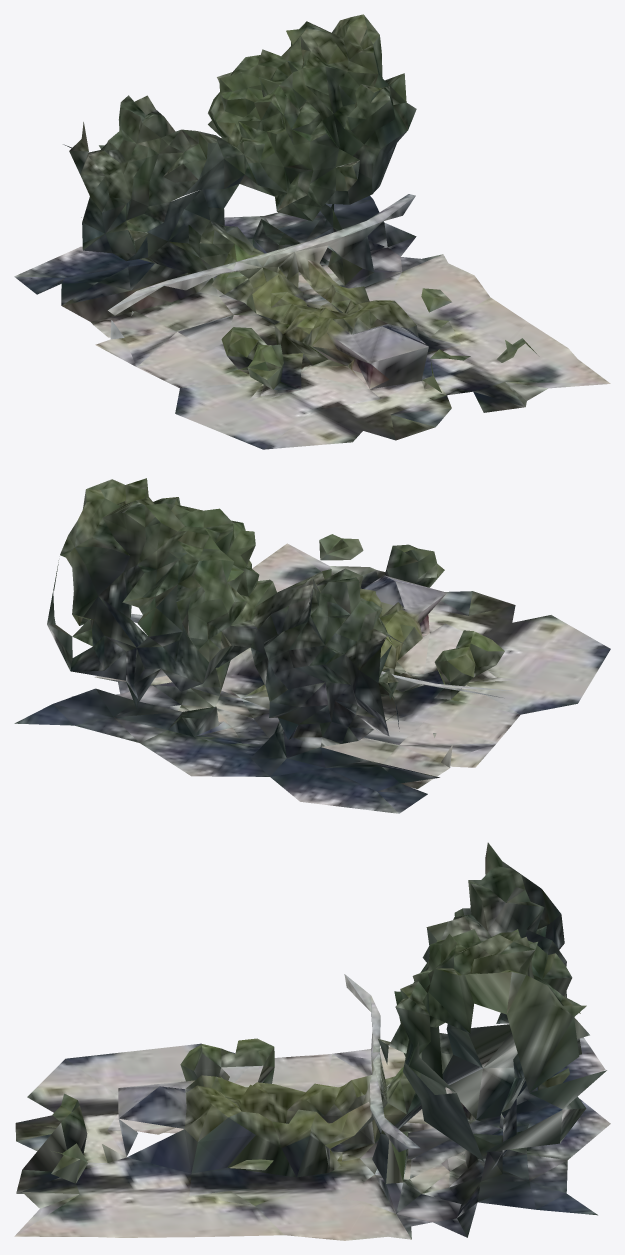
File: Tile_+006_+002_L17_00.glb
3 renders of one model, top to bottom at view 1: azimuth 30°, elevation 25°; view 2: azimuth 150°, elevation 25°; view 3: azimuth 270°, elevation 25°, orthographic. The views are drawn at different scales.
Visible parts, largest first — view 1: rtc; view 2: rtc; view 3: rtc.
Part boxes in pixels (x1,y1,x2,y2): rtc: (14,14,610,449); rtc: (14,478,610,813); rtc: (14,842,610,1240).
Bounding box in the file's own units: 48.66 × 28.23 × 59.96.
Materials: 1 (1 with a texture image).
